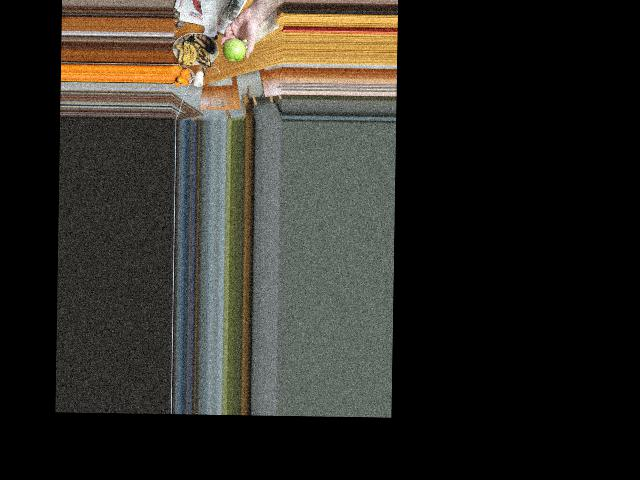apple: (224, 35, 249, 62)
